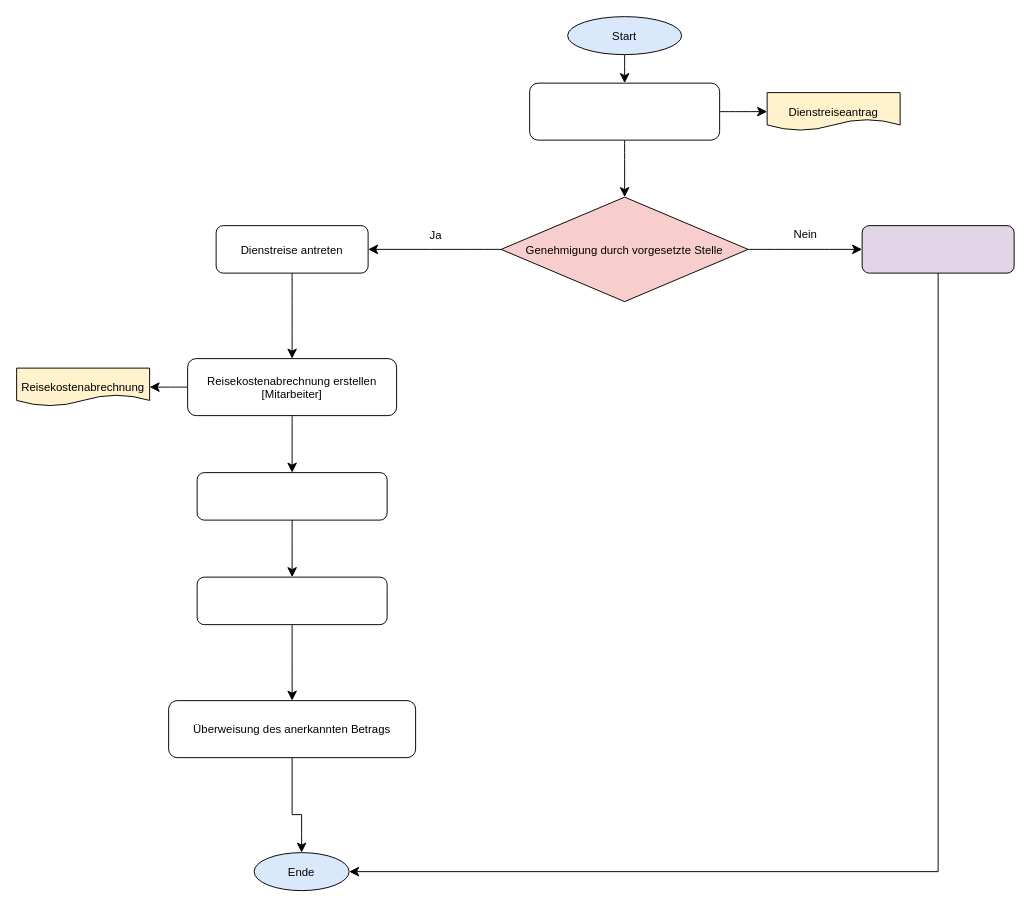
The diagram is 1031 pixels wide and 907 high, and some of its shapes have lost their labels. The shapes that lost their labels are listed below. From the top down, each one's box as (x1, y1, x2, y2) in pixels, then its label:
(529, 82, 720, 140): Dienstreiseantrag ausfüllen [Mitarbeiter]
(861, 225, 1014, 273): Dienstreise abgelehnt
(196, 472, 387, 520): Prüfung durch Vorgesetzten
(196, 576, 387, 625): Abgabe an Personalabteilung
